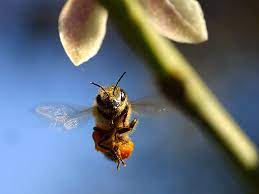insect: (32, 72, 188, 168)
